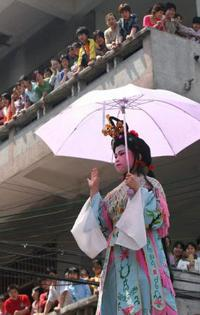person: (87, 116, 178, 314)
